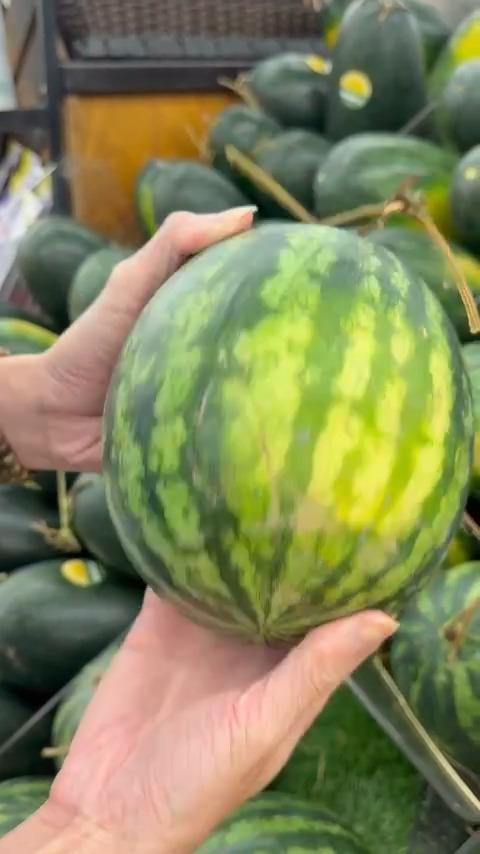watermelon: (98, 218, 480, 638)
